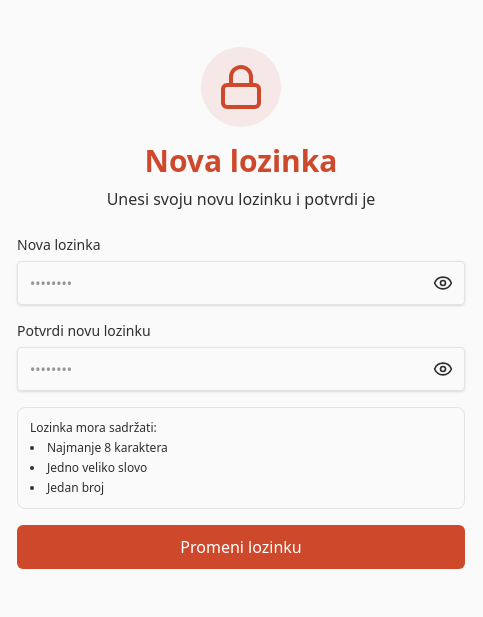
Test: PasswordResetForm › displays error message on failure
The image size is (483, 617).
Type "NewPassword1" into the password field with placeholder "••••••••". click: (241, 283)
box: [17,261,465,305]
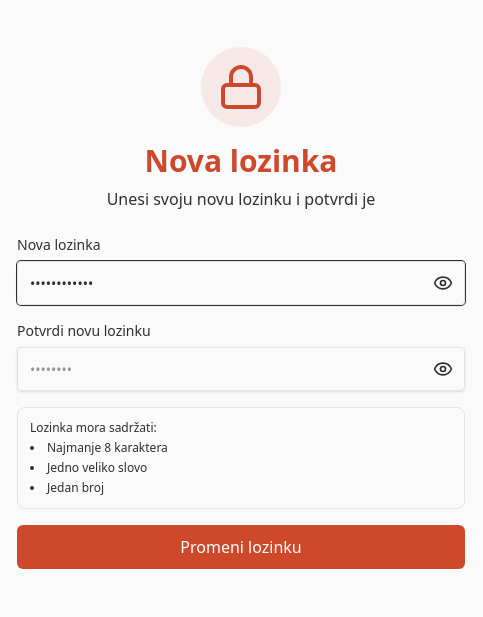
Type "NewPassword1" into the password field with placeholder "••••••••". click: (241, 369)
box: [17,347,465,391]
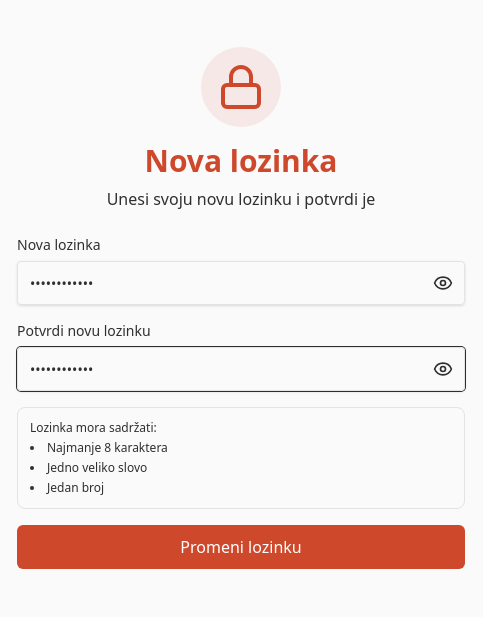
Click the button "Promeni lozinku". click: (241, 547)
box: [17,525,465,569]
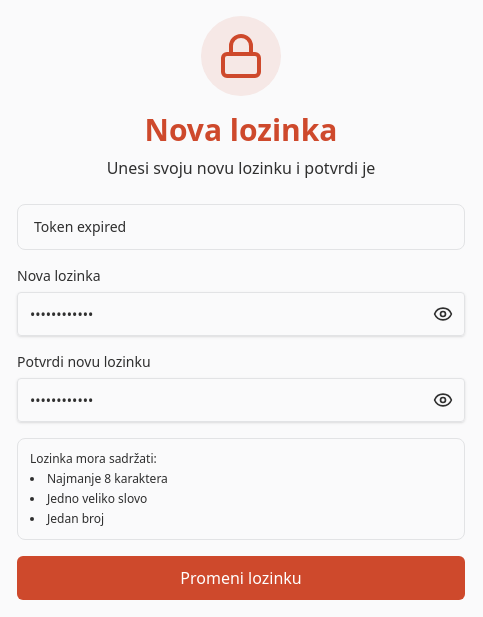
Now the text "Token expired" is shown, box [17,204,465,250]
